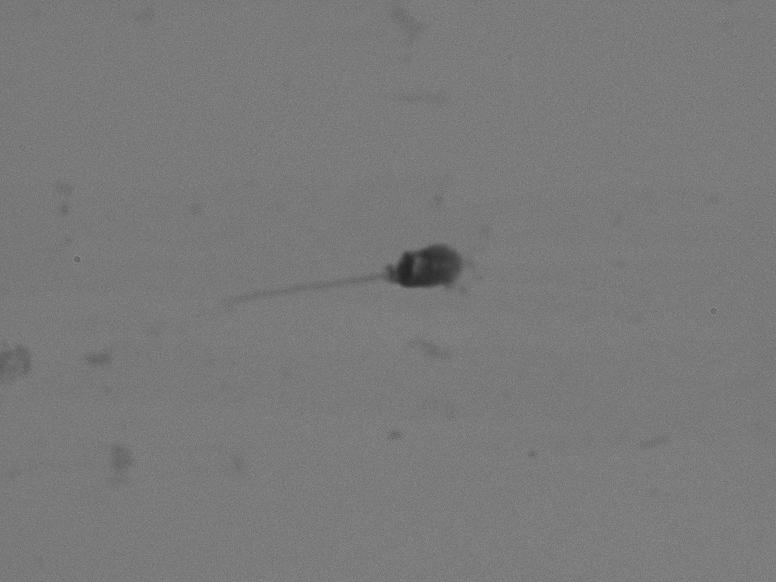Abnormal: (83, 189, 502, 398)
